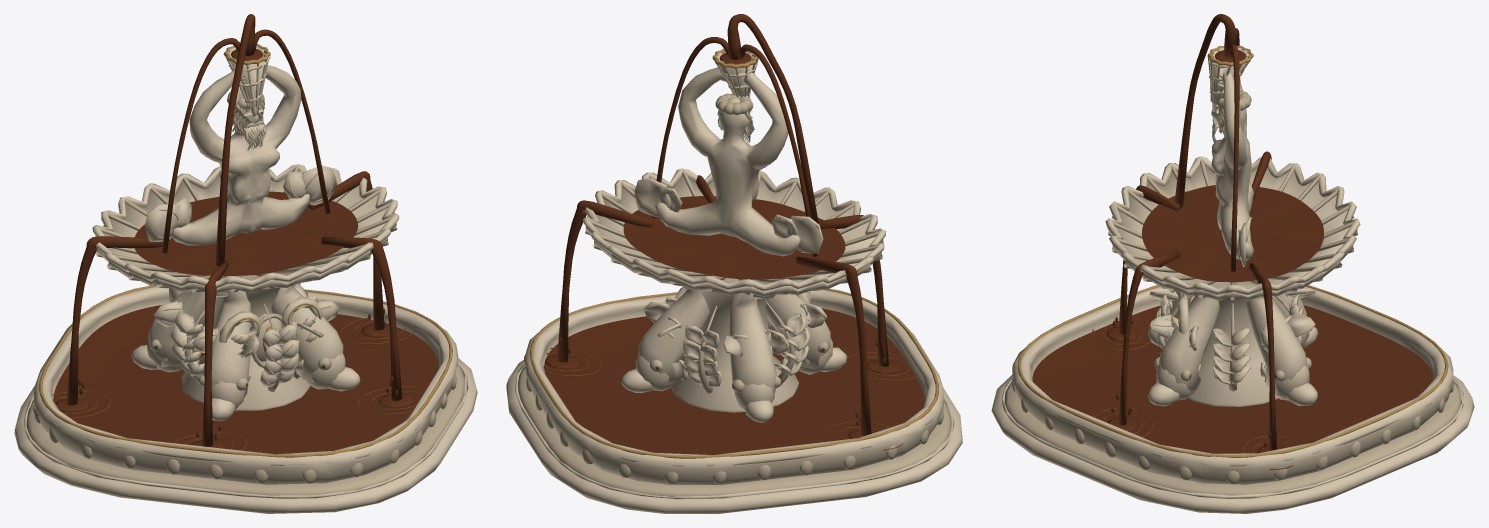
The model's file is triton-chocolate-fountain-medium-BVuVFxSz.glb.
3 views of the same model, side by side, from view 1: azimuth 30°, elevation 25°; view 2: azimuth 150°, elevation 25°; view 3: azimuth 270°, elevation 25° (orthographic).
Parts seen in each view (by area): view 1: Fountain_Travertino • avorio antico.001, Fountain_Cioccolato fondente • liquido.001, Fountain_Pietra dei rilievi.001, Fountain_Bronzo dorato invecchiato.001, Fountain_Riflessi cioccolata al latte.001; view 2: Fountain_Travertino • avorio antico.001, Fountain_Cioccolato fondente • liquido.001, Fountain_Pietra dei rilievi.001, Fountain_Bronzo dorato invecchiato.001, Fountain_Riflessi cioccolata al latte.001; view 3: Fountain_Travertino • avorio antico.001, Fountain_Cioccolato fondente • liquido.001, Fountain_Pietra dei rilievi.001, Fountain_Bronzo dorato invecchiato.001, Fountain_Riflessi cioccolata al latte.001.
Part boxes in pixels (box(x1,y1,x2,y2)): Fountain_Travertino • avorio antico.001: box(14, 46, 477, 513); Fountain_Cioccolato fondente • liquido.001: box(53, 14, 438, 454); Fountain_Pietra dei rilievi.001: box(26, 56, 464, 495); Fountain_Bronzo dorato invecchiato.001: box(39, 44, 452, 457); Fountain_Riflessi cioccolata al latte.001: box(33, 317, 426, 450); Fountain_Travertino • avorio antico.001: box(506, 51, 962, 513); Fountain_Cioccolato fondente • liquido.001: box(544, 14, 924, 454); Fountain_Pietra dei rilievi.001: box(517, 59, 951, 496); Fountain_Bronzo dorato invecchiato.001: box(530, 48, 938, 458); Fountain_Riflessi cioccolata al latte.001: box(524, 348, 917, 450); Fountain_Travertino • avorio antico.001: box(991, 48, 1474, 513); Fountain_Cioccolato fondente • liquido.001: box(1032, 14, 1433, 453); Fountain_Pietra dei rilievi.001: box(1004, 56, 1460, 495); Fountain_Bronzo dorato invecchiato.001: box(1017, 45, 1448, 457); Fountain_Riflessi cioccolata al latte.001: box(1091, 302, 1303, 469).
Bounding box in the file's own units: 7.21 × 6.57 × 7.21.
